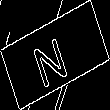N_NW: (33, 24, 77, 86)
